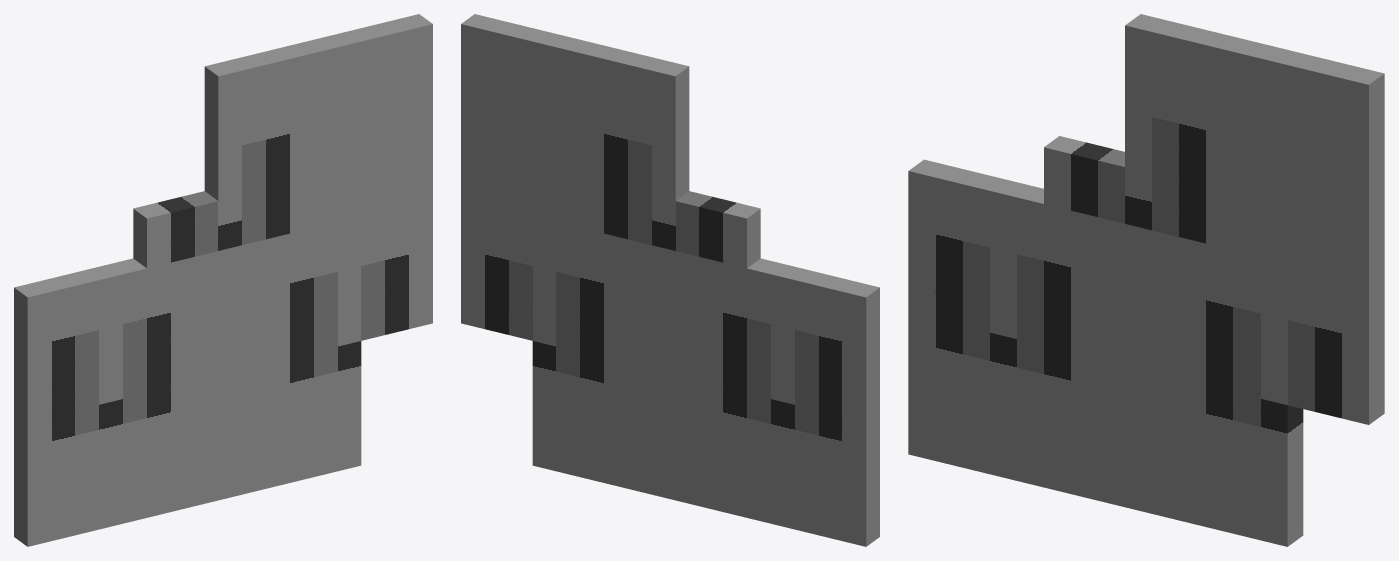
The model's file is ICON_BRK_Mexican_Wave.fbx.
3 views of the same model, side by side, from view 1: azimuth 30°, elevation 25°; view 2: azimuth 150°, elevation 25°; view 3: azimuth 330°, elevation 25° (orthographic). The views are drawn at different scales.
Visible parts, largest first — view 1: ICON_BRK_Mexican_Wave; view 2: ICON_BRK_Mexican_Wave; view 3: ICON_BRK_Mexican_Wave.
Part boxes in pixels (<box>): ICON_BRK_Mexican_Wave: <box>14,14,432,546</box>; ICON_BRK_Mexican_Wave: <box>461,14,879,546</box>; ICON_BRK_Mexican_Wave: <box>908,14,1384,546</box>.
Size of the model in its own units: 17 by 17 by 1.
1 material, 1 textured.
